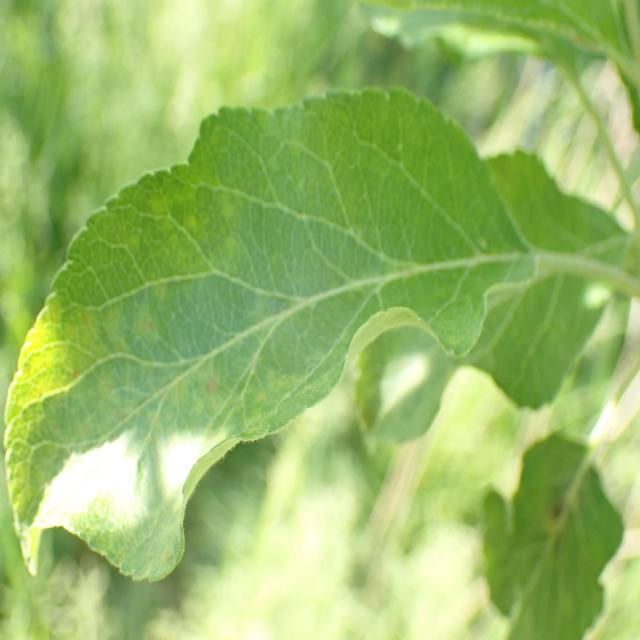scab: (14, 184, 429, 566)
